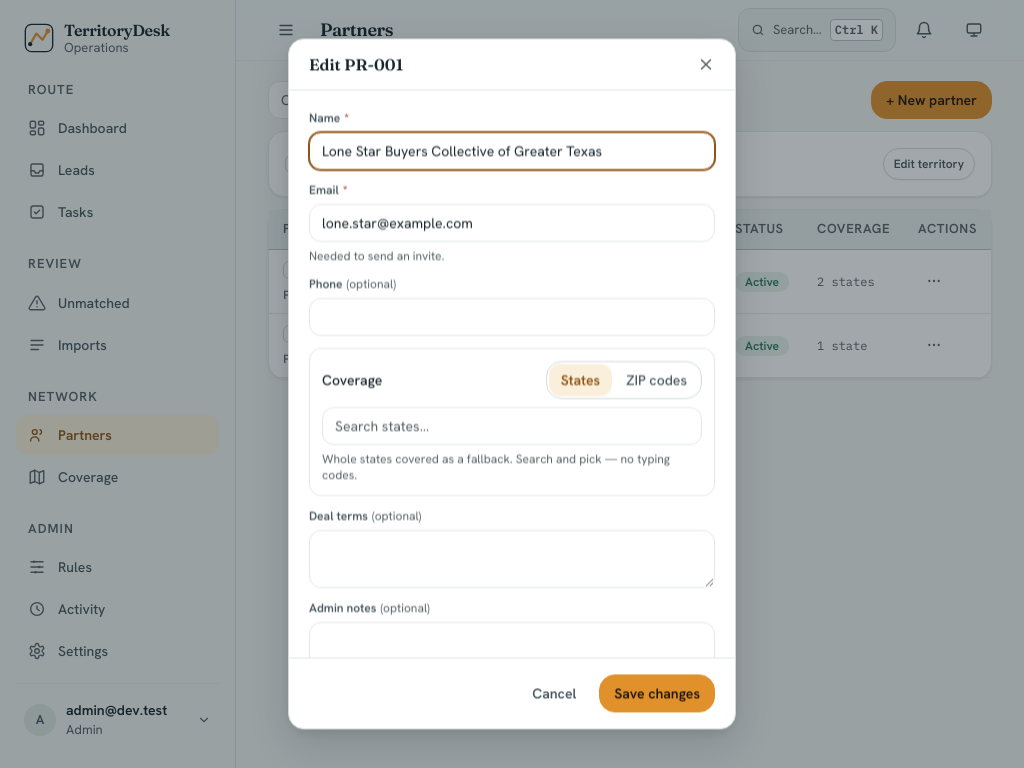
Test: N3C-04/C-56: partners ?edit= deep link › N3C-04/C-56: closing then re-rendering with the SAME ?edit= does not re-open the form
This screenshot has width=1024, height=768.
Expected: the dialog "Edit PR-001" is shown, [288,38,736,730]
Click the button "Cancel": coordinates (554, 694) [517,675,591,713]
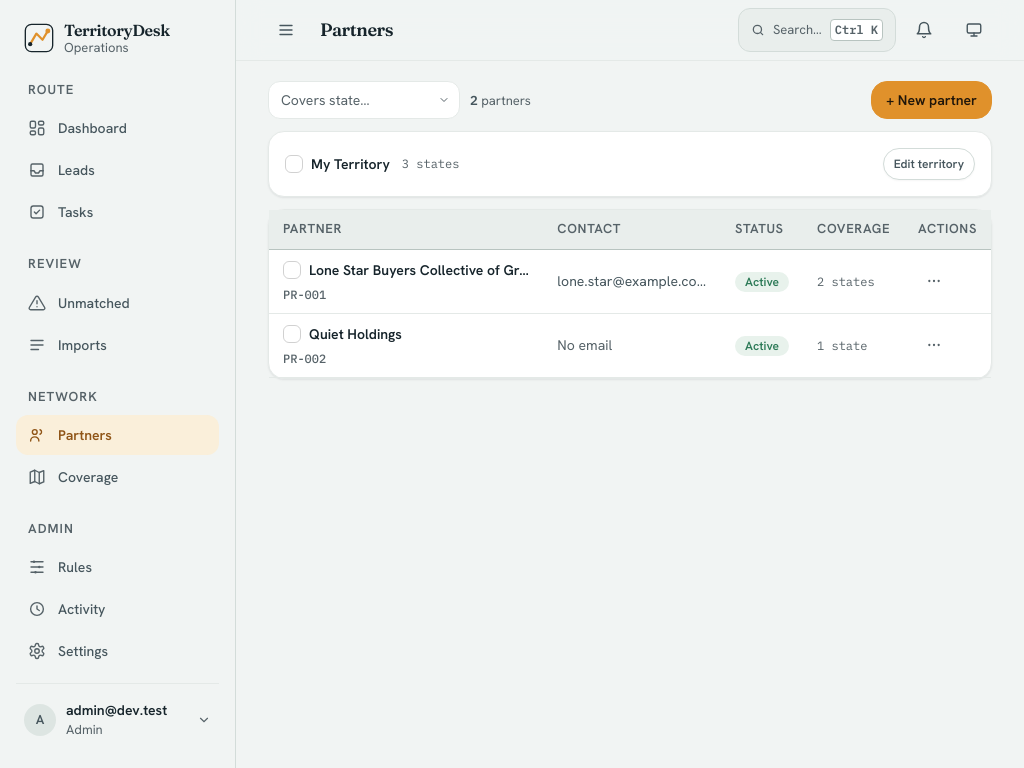
Expected: the dialog is gone
